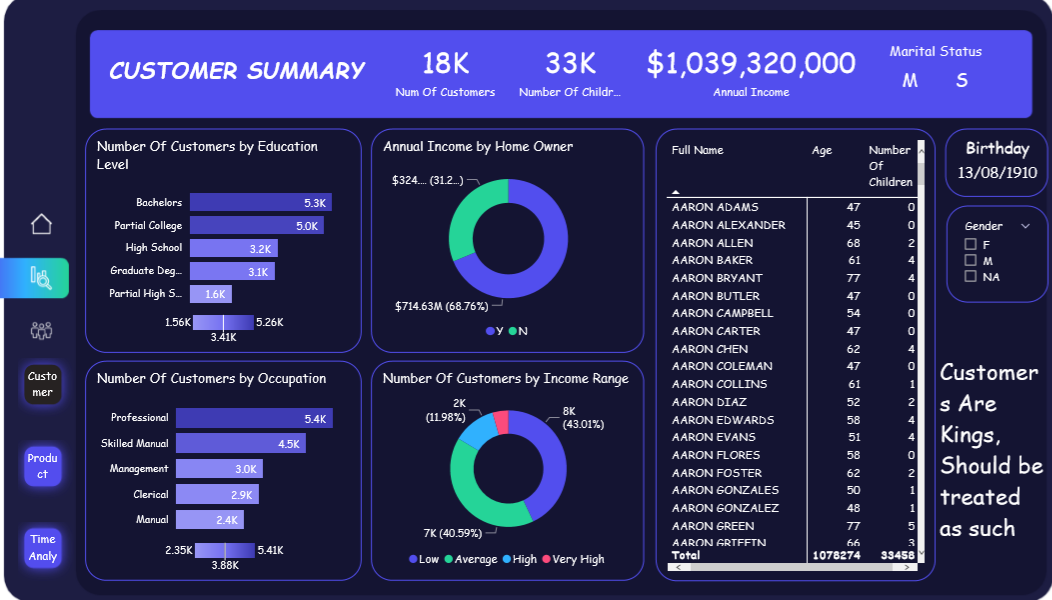

The page's visual inventory and layout, read from the dashboard file:
{"tool":"powerbi","page":{"name":"Customer summary","canvas":[1280,720],"ordinal":0},"visuals":[{"type":"donutChart","fields":{"Y":["Key Measures.Number Of Customers"],"Category":["Customers.Income Range"]},"box":[465.3,428.8,324.3,261.4],"z":0},{"type":"card","fields":{"Values":["Key Measures.Number Of Customers"]},"box":[487.1,38.3,133.5,93.7],"z":1000},{"type":"textbox","box":[144.9,61.1,320.9,46.9],"z":2000},{"type":"card","fields":{"Values":["Key Measures.Number Of Children"]},"box":[634.8,38.3,133.5,93.7],"z":3000},{"type":"card","fields":{"Values":["Key Measures.Annual Income"]},"box":[781.1,38.3,269.8,93.7],"z":4000},{"type":"pivotTable","fields":{"Rows":["Customers.Full Name"],"Values":["Customers.Age","Key Measures.Number Of Children"]},"box":[802.4,153.4,332.3,536.8],"z":5000},{"type":"slicer","title":"Marital Status","fields":{"Values":["Customers.Marital Status"]},"box":[1050.9,49.7,169,69.6],"z":6000},{"type":"clusteredBarChart","fields":{"Category":["Customers.Education Level"],"Y":["Key Measures.Number Of Customers"]},"box":[126.4,153.4,328,266.5],"z":7000},{"type":"clusteredBarChart","fields":{"Y":["Key Measures.Number Of Customers"],"Category":["Customers.Occupation"]},"box":[126.4,428.8,328,261.4],"z":8000},{"type":"card","title":"Birthday","fields":{"Values":["Customers.Birth Date"]},"box":[1146,153.4,122.1,80.9],"z":9000},{"type":"donutChart","fields":{"Y":["Key Measures.Annual Income"],"Category":["Customers.Home Owner"]},"box":[465.3,153.4,324.3,266.5],"z":10000},{"type":"textbox","box":[1134.7,360.7,133.5,346.5],"z":11000},{"type":"slicer","fields":{"Values":["Customers.Gender"]},"box":[1147.5,245.7,120.7,115],"z":12000},{"type":"pageNavigator","box":[39.6,418.7,75,271.6],"z":13000}]}

Visuals, with their boxes on the page's 1280x720 design canvas (x1, y1, x2, y2). These are canvas units, not pixel positions in the 1052x600 screenshot, which may show the page scaled, cropped or inside an application window:
donutChart - Key Measures.Number Of Customers x Customers.Income Range: pyautogui.locateOnScreen(465, 429, 790, 690)
card - Key Measures.Number Of Customers: pyautogui.locateOnScreen(487, 38, 621, 132)
textbox: pyautogui.locateOnScreen(145, 61, 466, 108)
card - Key Measures.Number Of Children: pyautogui.locateOnScreen(635, 38, 768, 132)
card - Key Measures.Annual Income: pyautogui.locateOnScreen(781, 38, 1051, 132)
pivotTable - Customers.Full Name x Customers.Age: pyautogui.locateOnScreen(802, 153, 1135, 690)
"Marital Status" slicer: pyautogui.locateOnScreen(1051, 50, 1220, 119)
clusteredBarChart - Customers.Education Level x Key Measures.Number Of Customers: pyautogui.locateOnScreen(126, 153, 454, 420)
clusteredBarChart - Key Measures.Number Of Customers x Customers.Occupation: pyautogui.locateOnScreen(126, 429, 454, 690)
"Birthday" card: pyautogui.locateOnScreen(1146, 153, 1268, 234)
donutChart - Key Measures.Annual Income x Customers.Home Owner: pyautogui.locateOnScreen(465, 153, 790, 420)
textbox: pyautogui.locateOnScreen(1135, 361, 1268, 707)
slicer - Customers.Gender: pyautogui.locateOnScreen(1148, 246, 1268, 361)
pageNavigator: pyautogui.locateOnScreen(40, 419, 115, 690)
